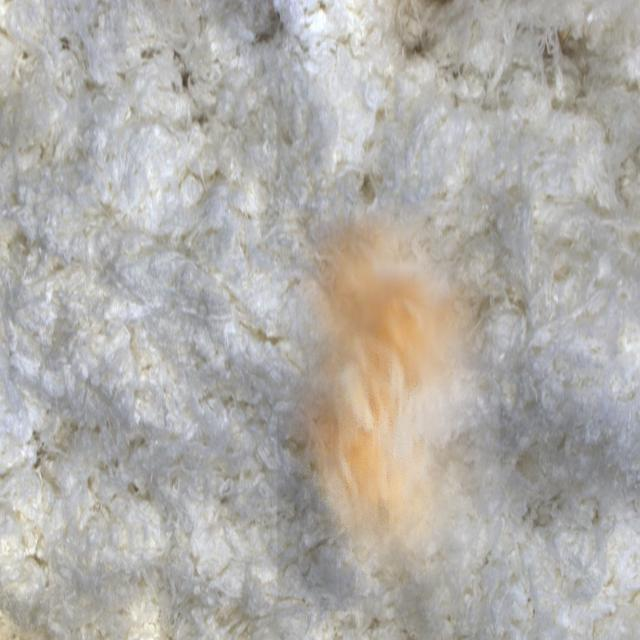dust: (277, 205, 500, 612)
